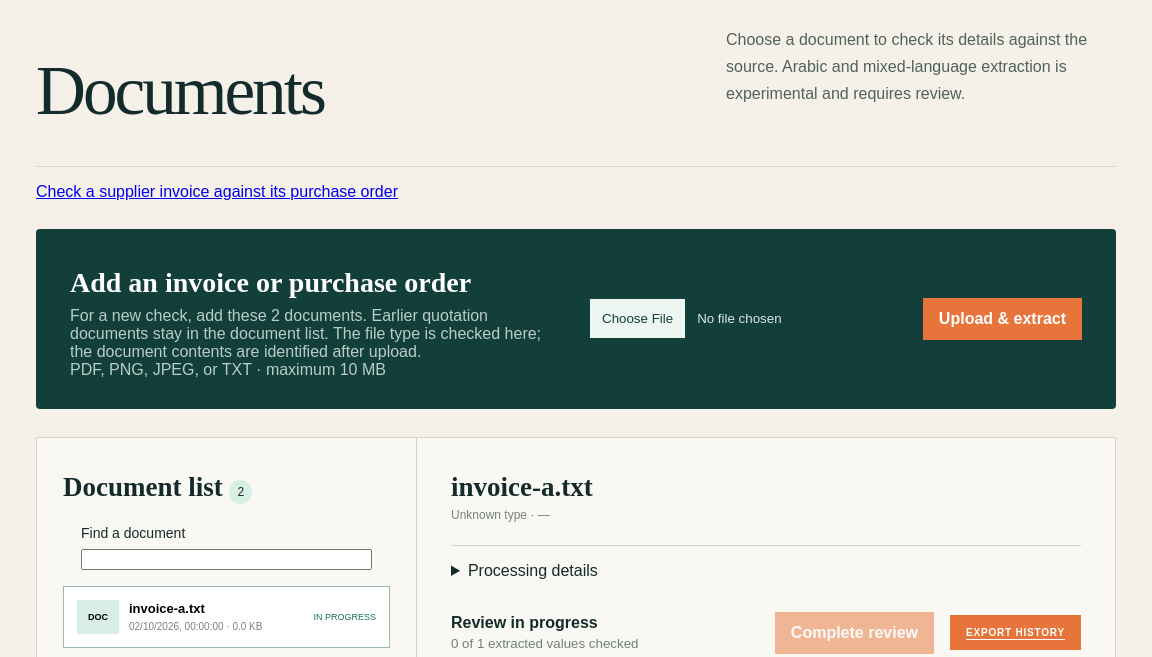
Scenario: document repeat action protection › reports a terminal processing replay honestly and reloads latest status without queuing again
Click the heading "Processing details". click: (533, 570)
box: top-left (468, 562), bottom-right (598, 579)
(page scrolled)
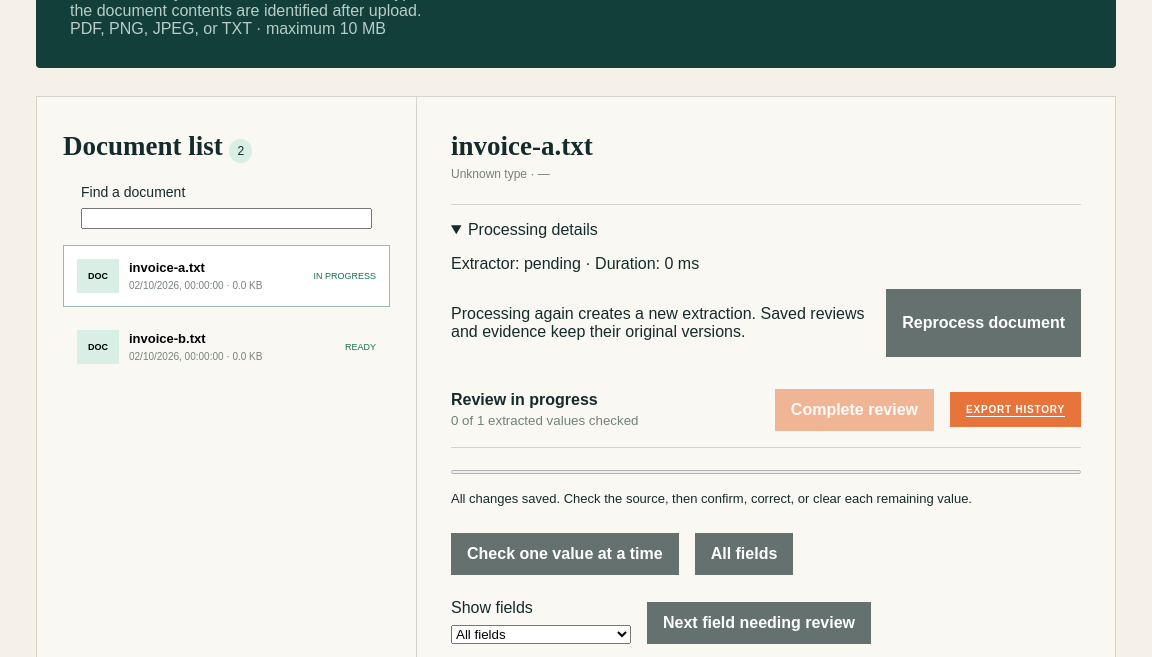
Click the button "Reprocess document". click: (984, 323)
box: top-left (886, 289), bottom-right (1081, 357)
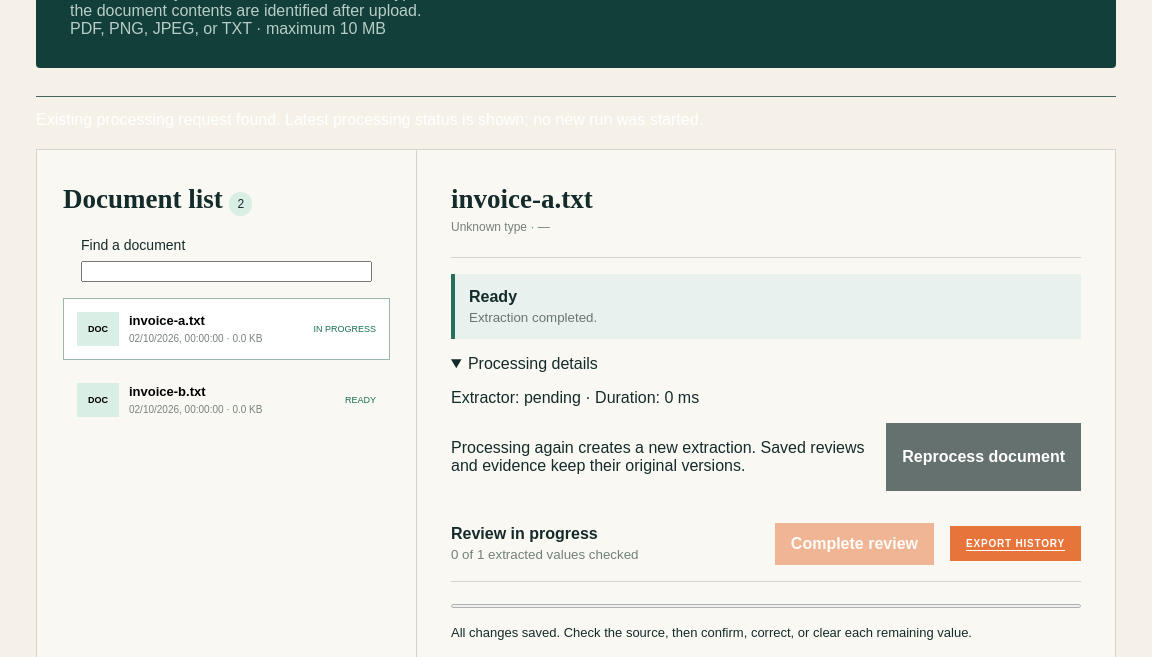
Check: the text "Extraction completed." is shown, box top-left (469, 310), bottom-right (597, 325)
